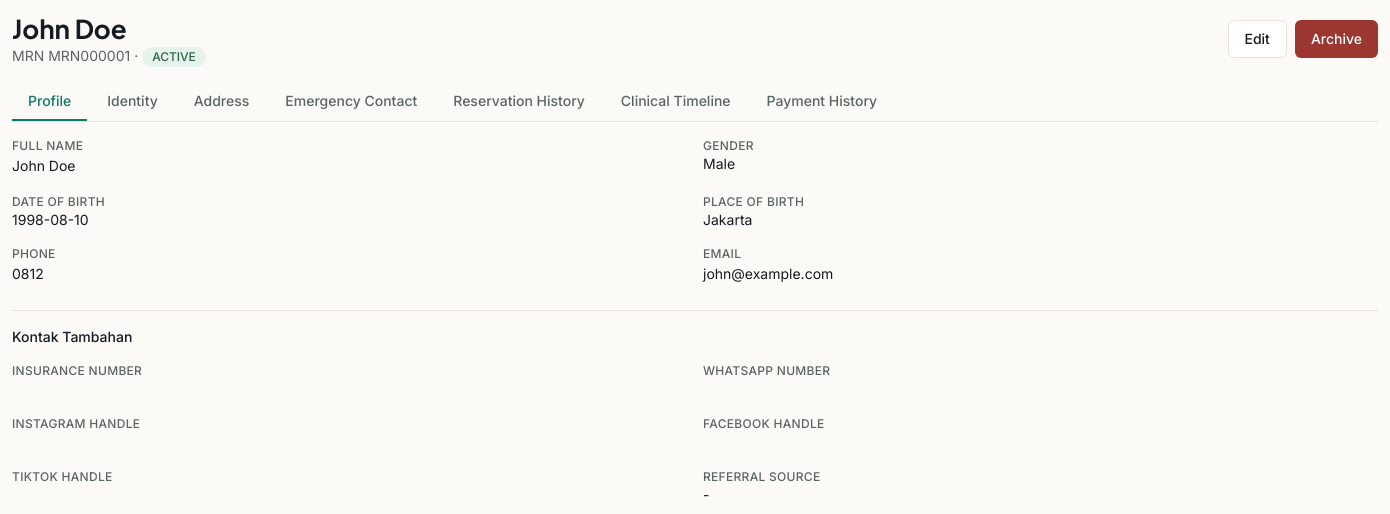
Test: PatientDetailView › switches to the Identity tab and shows history tabs as empty
Expected: the heading "John Doe" is shown, [12,12,127,45]
What coordinates should you click on to do the following:
click the tab "Identity"
I would click on:
 (132, 102)
Its box is [91,83,174,121].
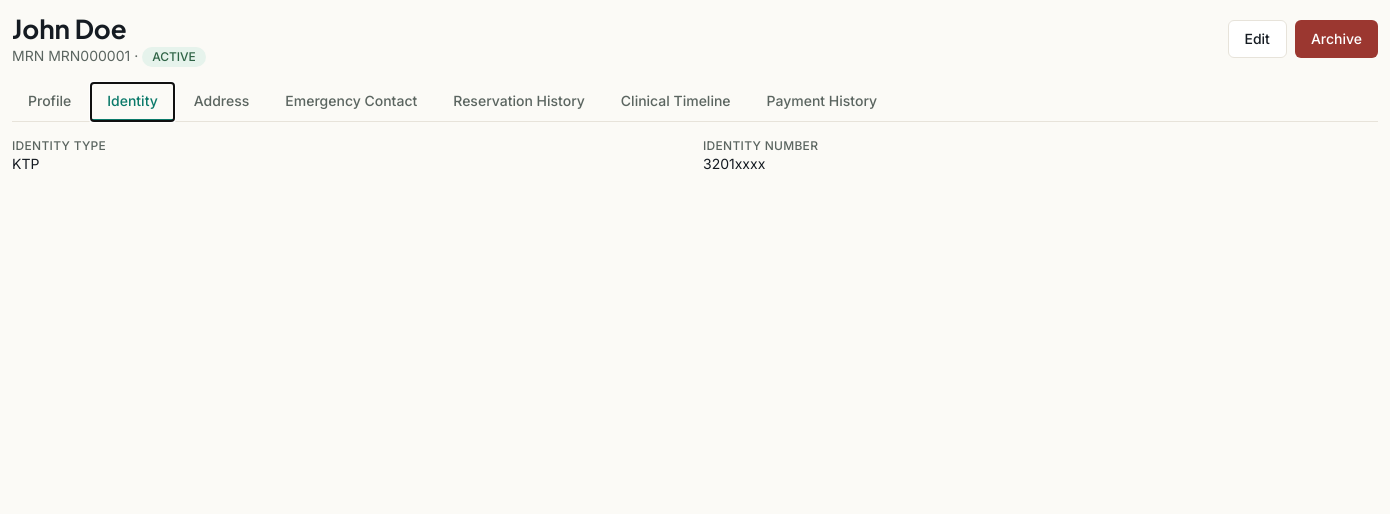
Expected: the text "3201xxxx" is shown, [703,155,765,172]
What coordinates should you click on to do the following:
click the tab "Reservation History"
I would click on:
 (519, 102)
Its box is [437,83,601,121].
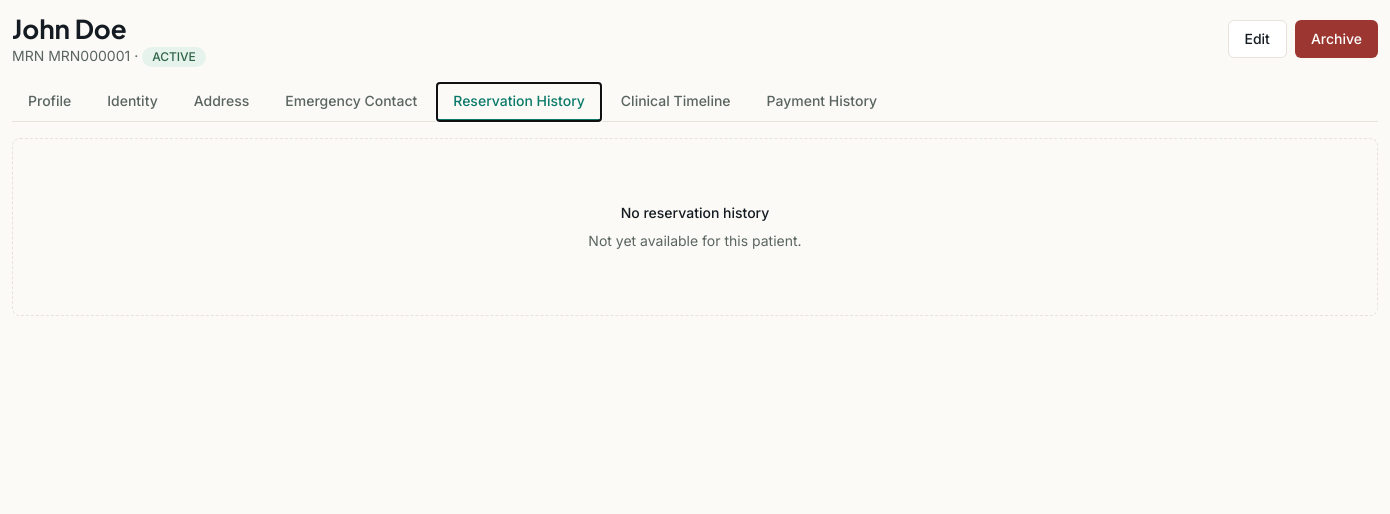
Expected: the text "No reservation history" is shown, [621,203,769,223]
